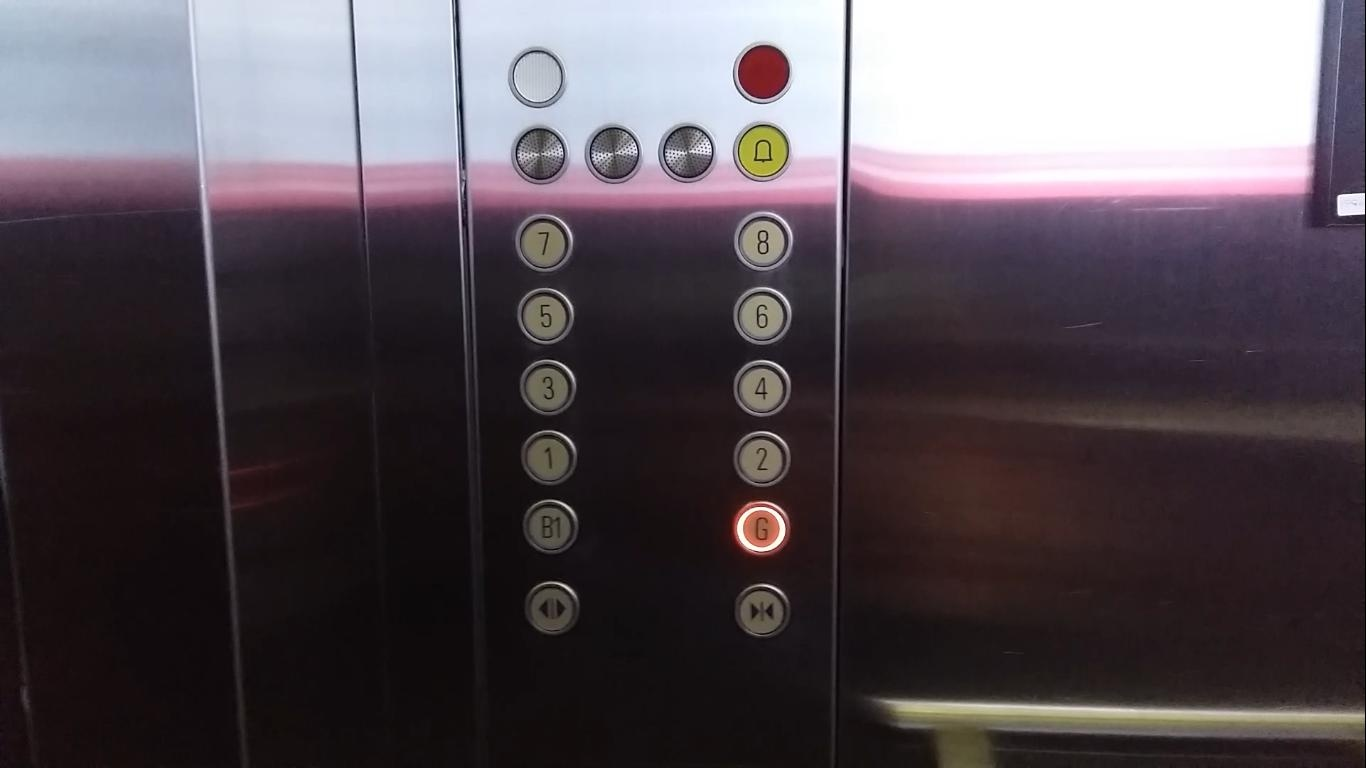1: (518, 427, 577, 488)
2: (732, 427, 791, 488)
3: (518, 357, 577, 416)
4: (730, 357, 792, 417)
5: (514, 287, 575, 345)
6: (729, 286, 793, 345)
7: (514, 214, 575, 272)
8: (730, 209, 795, 272)
B1: (521, 497, 581, 556)
G: (733, 500, 790, 556)
alarm: (733, 121, 794, 181)
close: (733, 582, 793, 639)
empty: (731, 40, 794, 107), (505, 45, 570, 108)
open: (523, 581, 582, 636)
speaker: (507, 123, 572, 186), (580, 121, 645, 184), (656, 122, 721, 185)
